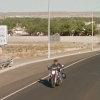Motorcycle: (43, 54, 67, 94)
